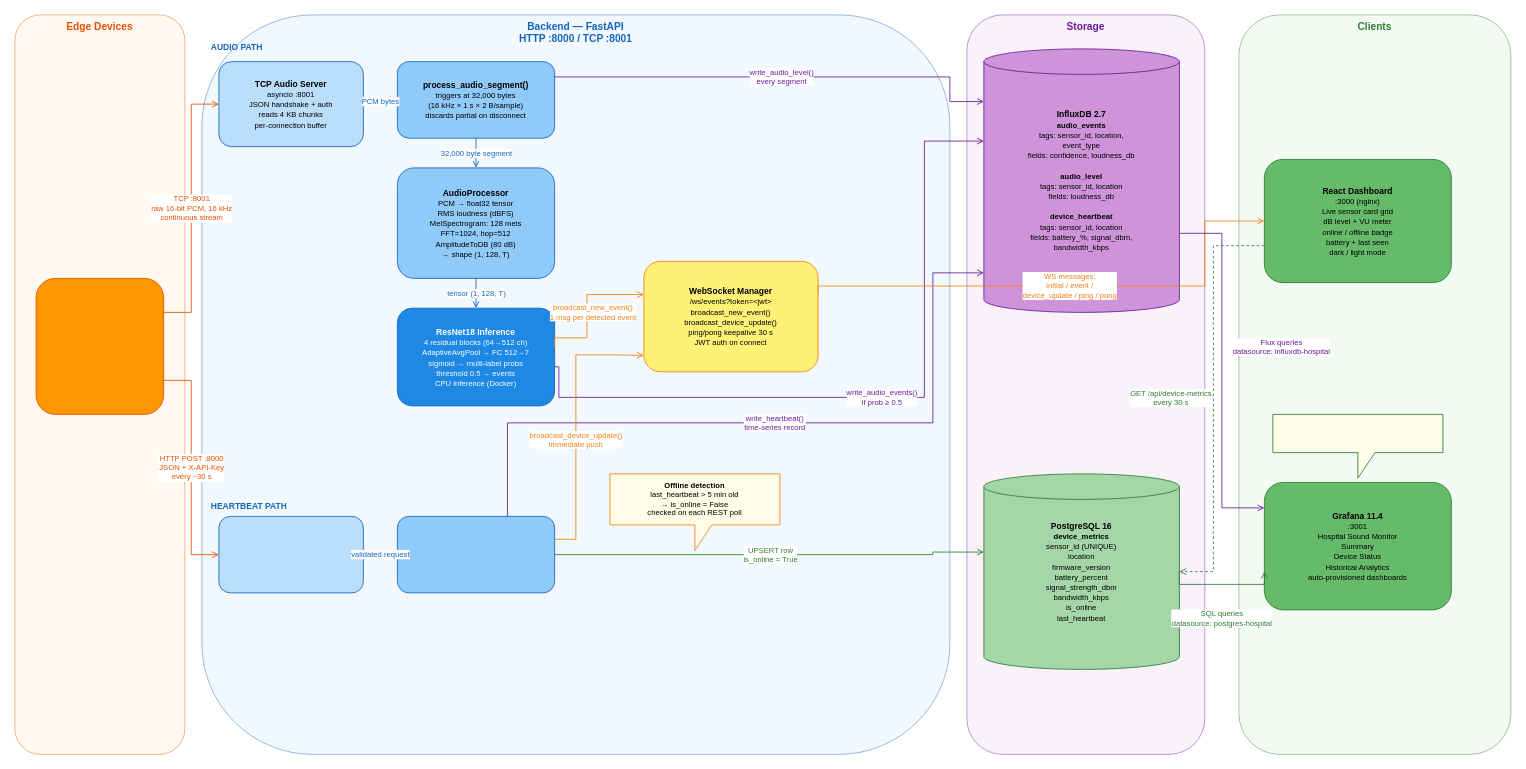
Image size: 1526x769. Some labels were removed from this diagram. Here are the shapes that lost their labels. From the top down, the centre of each, then its label:
At (99,346): "ESP32 Sensor INMP441 microphone 16 kHz PCM audio WiFi 802.11 b/g/n 1 – N devices".
At (1357,446): "Polls GET /api/device-metrics every 30 s as safety net (primary updates via WS)".
At (290,554): "Heartbeat Endpoint POST /api/device-metrics /heartbeat auth: X-API-Key header".
At (476,554): "update_heartbeat() UPSERT device_metrics is_online = True last_heartbeat = now()".
